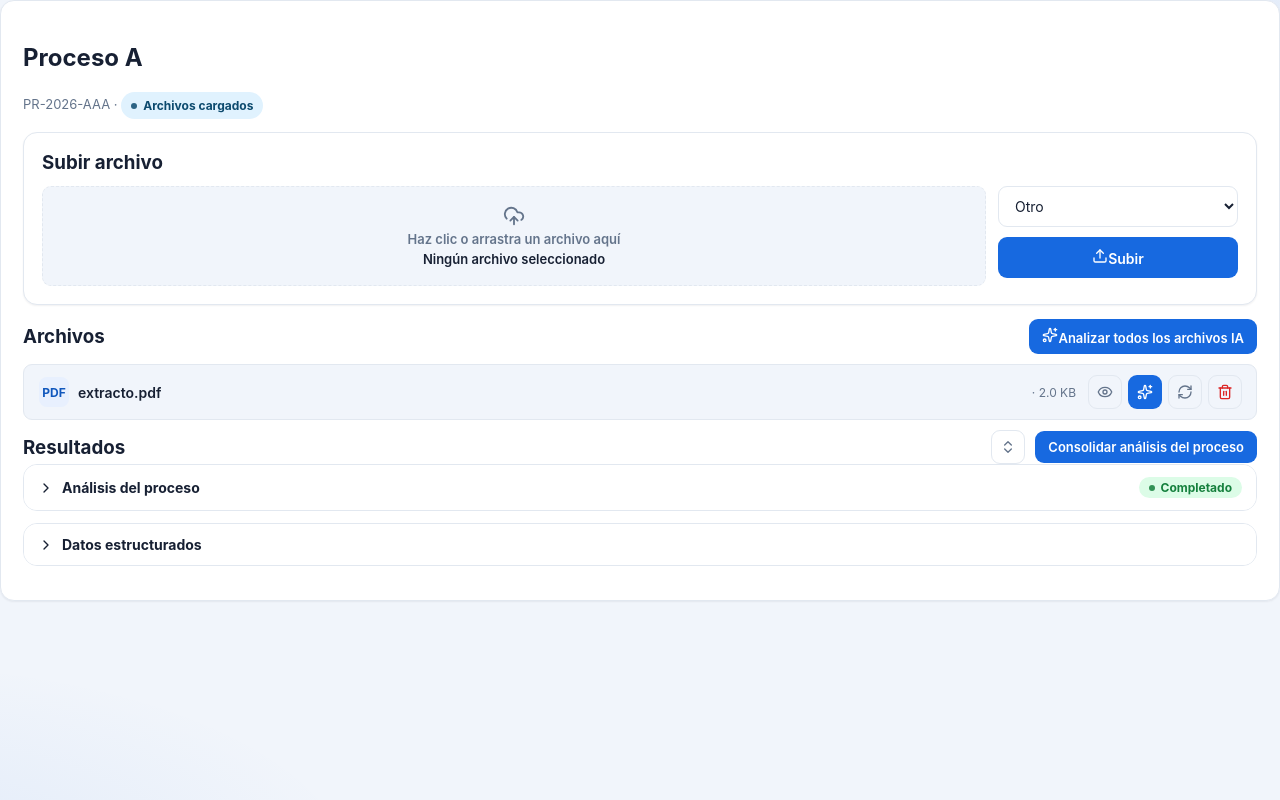
Test case: ProcessDetail › muestra los datos estructurados del proceso al expandir
Click the button with class "collapsible-head" showing "Datos estructurados": (132, 545) [24, 524, 1256, 565]
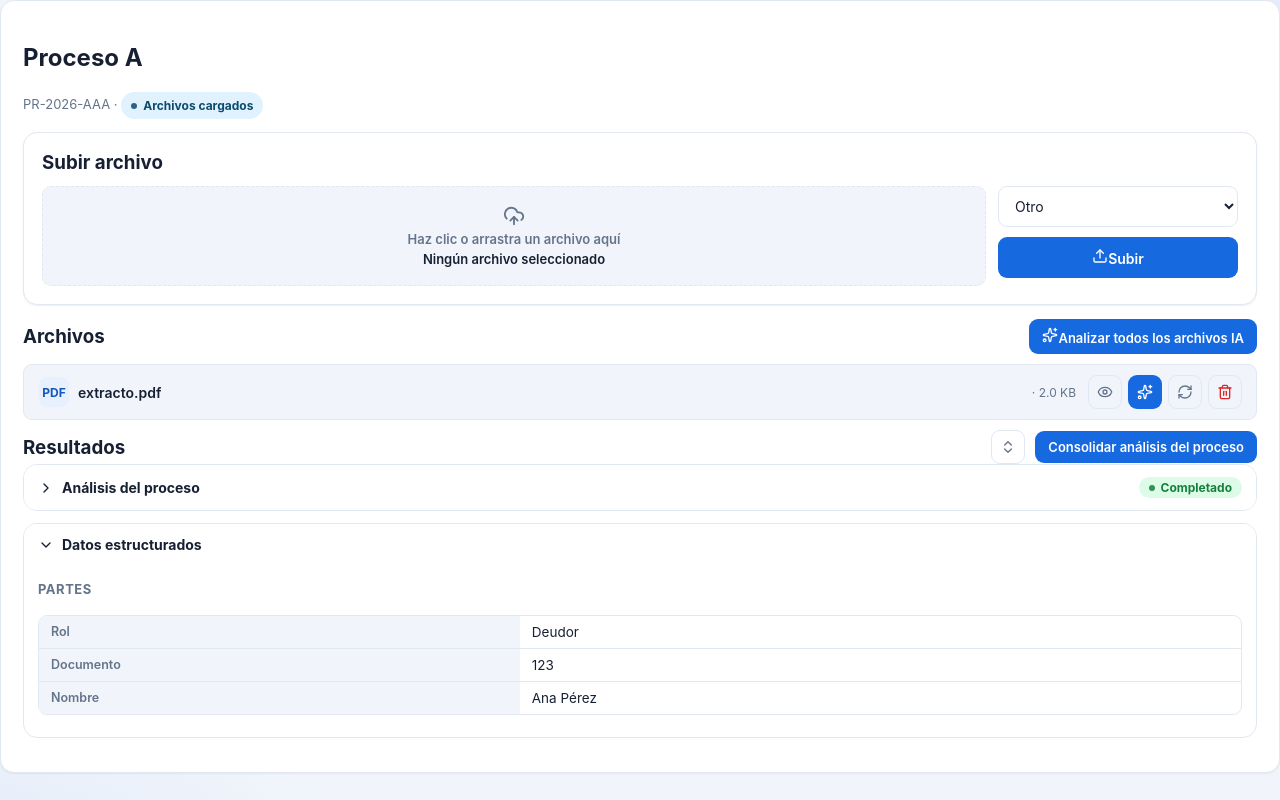
Now the text "Ana Pérez" is shown, box [532, 690, 597, 706]
Now the text "Deudor" is shown, box [532, 624, 579, 640]
